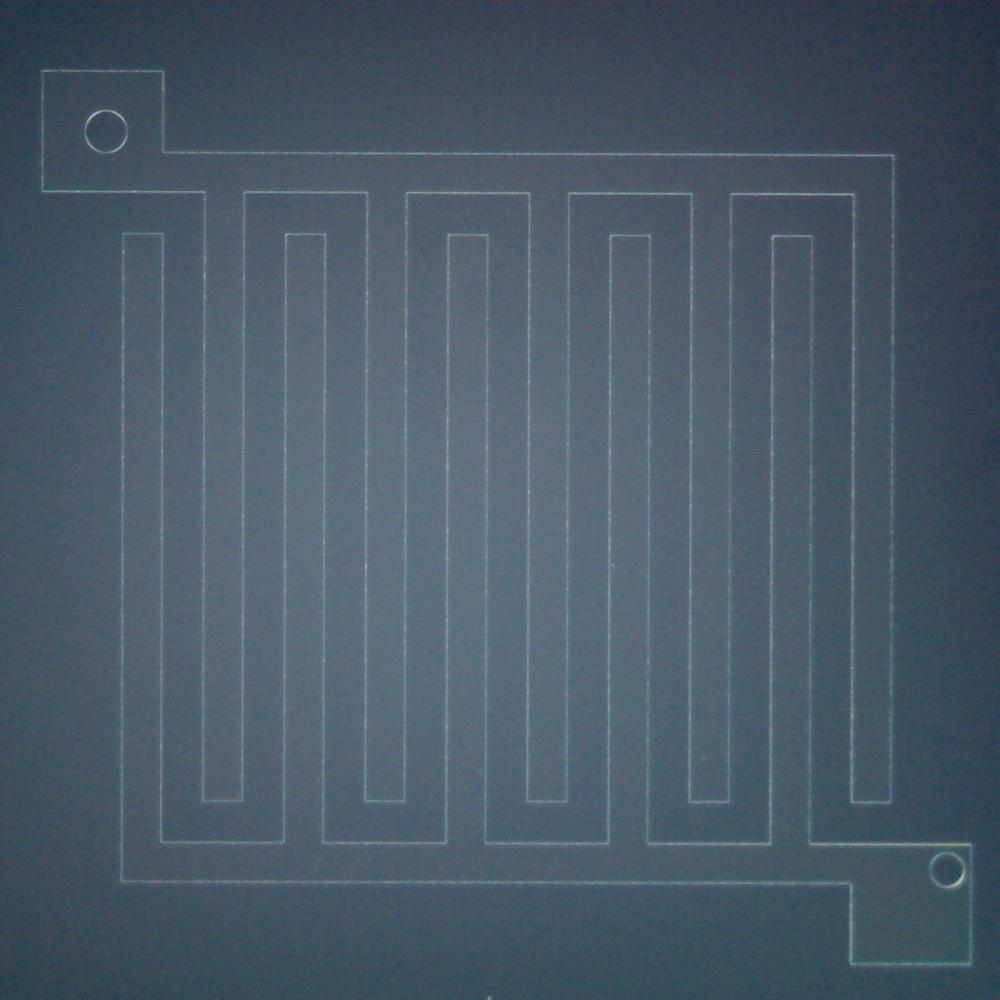dot: (488, 996, 492, 999)
